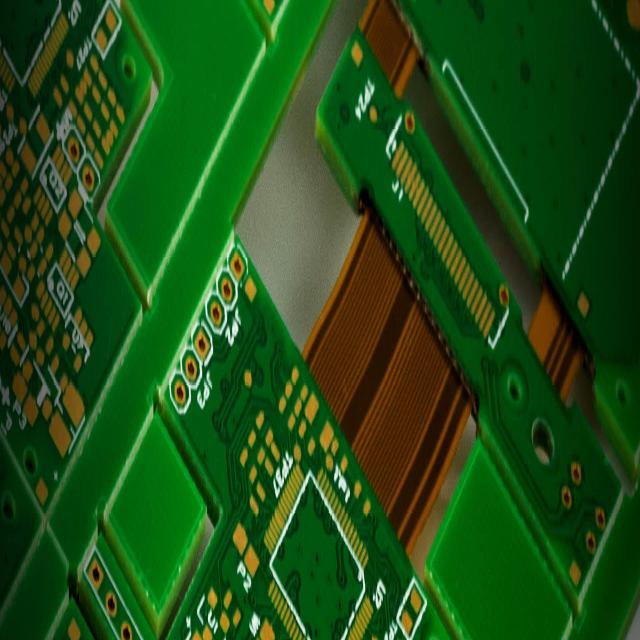pcb: (1, 1, 638, 636), (75, 225, 451, 637)
